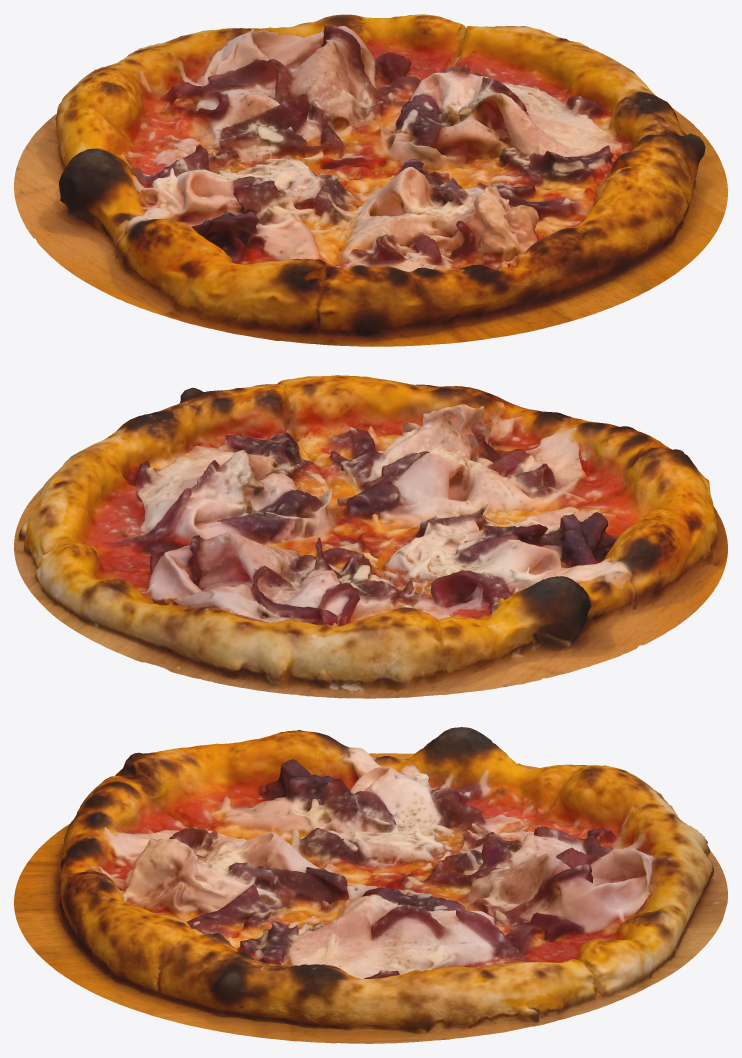
File: pizza.glb
3 views of the same model, one above another, from view 1: azimuth 30°, elevation 25°; view 2: azimuth 150°, elevation 25°; view 3: azimuth 270°, elevation 25° (orthographic).
Visible parts, largest first — view 1: Object_4; view 2: Object_4; view 3: Object_4.
Part boxes in pixels (x1,y1,x2,y2): Object_4: [14, 14, 727, 346]; Object_4: [14, 375, 727, 698]; Object_4: [14, 727, 727, 1043].
Bounding box in the file's own units: 0.3464 × 0.0403 × 0.3541.
Materials: 1 (1 with a texture image).
